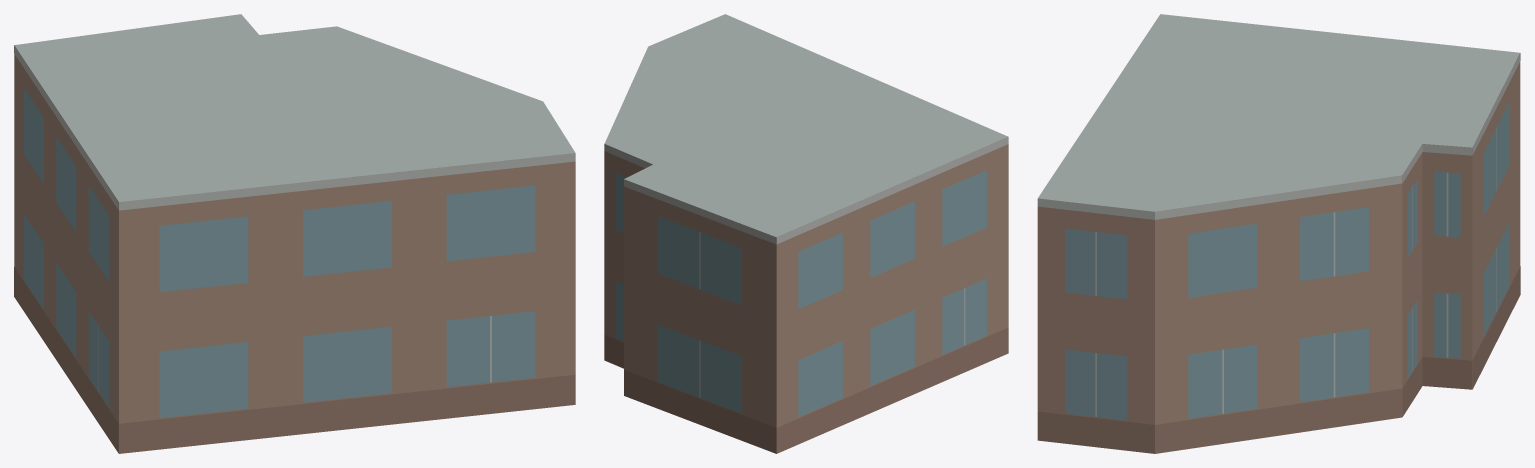
Rendered from survey-upis-32494779.glb.
The picture shows the model from 3 angles, left to right: view 1: azimuth 30°, elevation 25°; view 2: azimuth 150°, elevation 25°; view 3: azimuth 270°, elevation 25°; orthographic projection. The views are drawn at different scales.
Visible parts, largest first — view 1: survey-upis-32494779.tmp; view 2: survey-upis-32494779.tmp; view 3: survey-upis-32494779.tmp.
Boxes of the visible parts, bbox=[...] form: survey-upis-32494779.tmp: bbox=[14, 14, 575, 453]; survey-upis-32494779.tmp: bbox=[604, 14, 1008, 453]; survey-upis-32494779.tmp: bbox=[1037, 14, 1520, 453].
Size of the model in its own units: 12.81 by 7.3 by 13.21.
